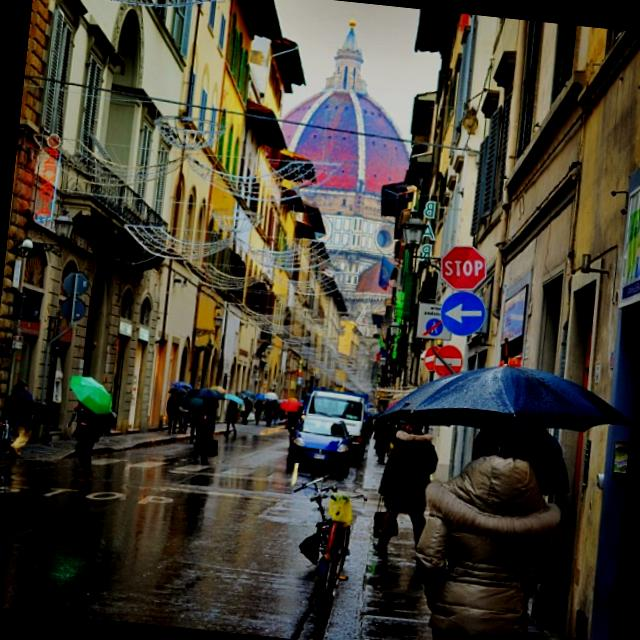Vehicle: (300, 388, 370, 466), (284, 413, 354, 476)
